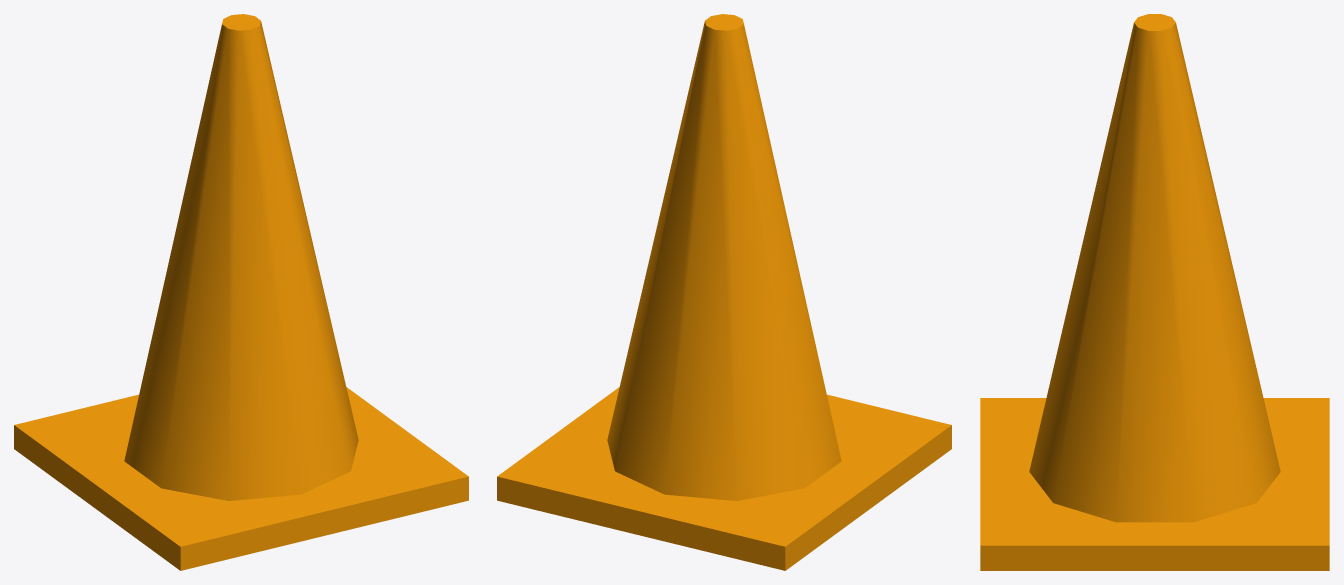
The picture shows the model from 3 angles, left to right: view 1: azimuth 30°, elevation 25°; view 2: azimuth 150°, elevation 25°; view 3: azimuth 270°, elevation 25°; orthographic projection. The views are drawn at different scales.
Parts seen in each view (by area): view 1: Cone; view 2: Cone; view 3: Cone.
Part boxes in pixels (left/top/right/bottom): Cone: left=14, top=14, right=468, bottom=570; Cone: left=497, top=14, right=951, bottom=570; Cone: left=980, top=14, right=1329, bottom=570.
Bounding box in the file's own units: 0.5 × 0.75 × 0.5.
